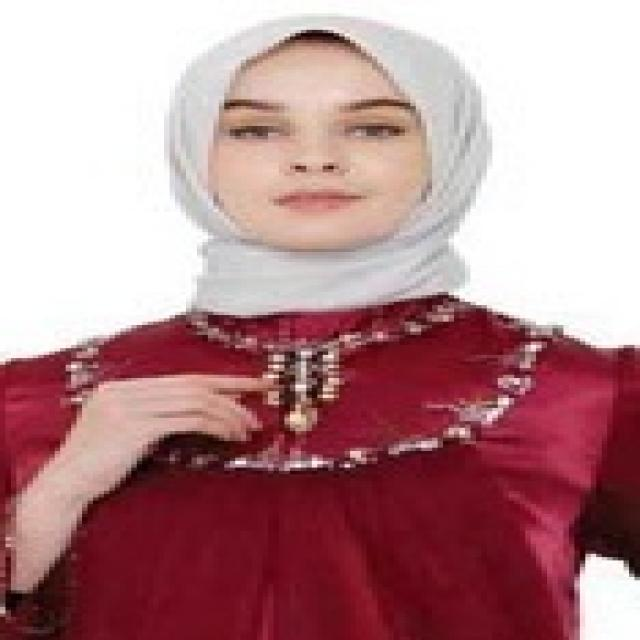head: (163, 11, 493, 259)
